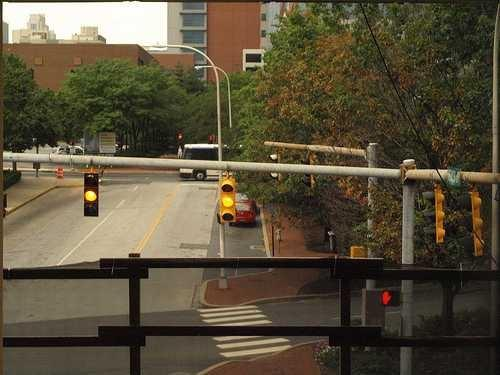red: (377, 286, 401, 311)
